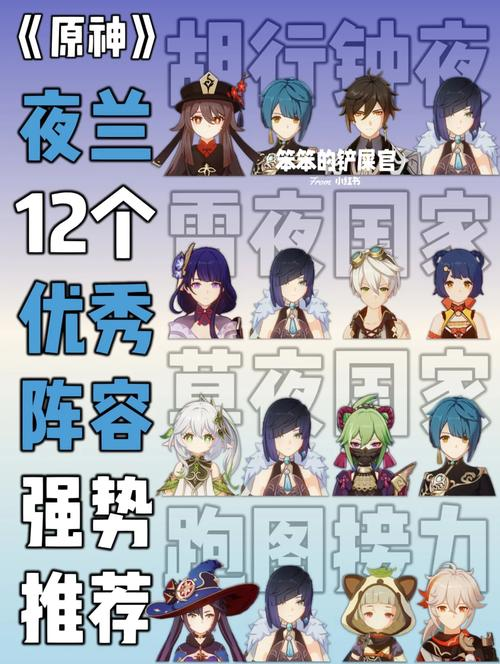夜兰: (248, 242, 331, 356), (240, 404, 319, 503), (422, 69, 496, 174), (251, 564, 327, 662)
